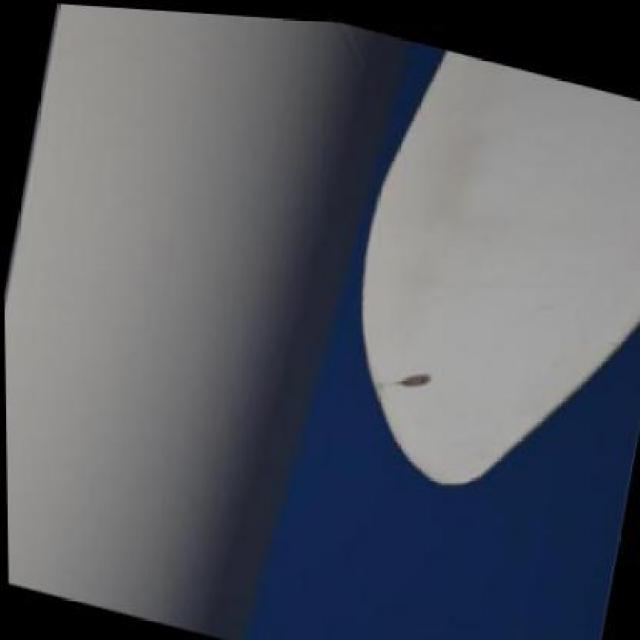Burn Mark: (387, 358, 438, 398)
